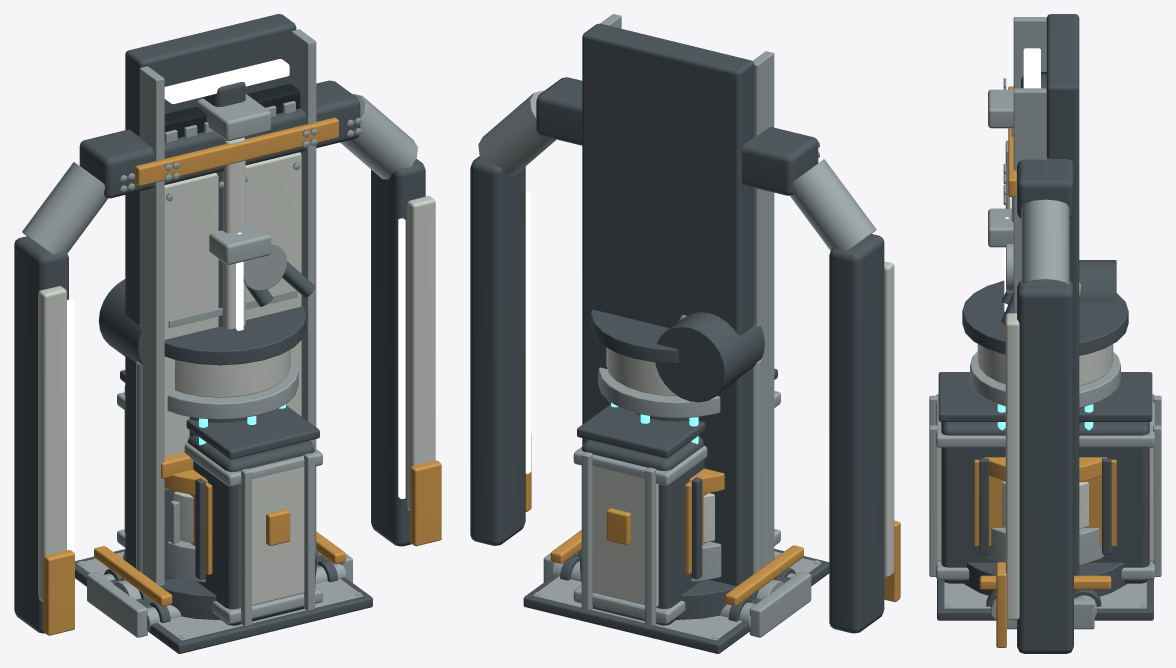
Rendered from helios-kit.glb.
The picture shows the model from 3 angles, left to right: view 1: azimuth 30°, elevation 25°; view 2: azimuth 150°, elevation 25°; view 3: azimuth 270°, elevation 25°; orthographic projection. The views are drawn at different scales.
Visible parts, largest first — view 1: DoorFrame_Graphite, WallBay_Steel, DoorFrame_Ivory, WallBay_Ivory, WallBay_Graphite, Crate_Graphite, DoorFrame_Amber, DoorFrame_Steel, Reactor_Graphite, Crate_Steel, Crate_Ivory, Reactor_Steel (+18 smaller); view 2: WallBay_Graphite, DoorFrame_Graphite, Crate_Graphite, WallBay_Steel, DoorFrame_Steel, Crate_Steel, ServiceArm_Graphite, Crate_Ivory, Reactor_Steel, Reactor_Graphite, FloorTile_Graphite, DoorFrame_Ivory (+9 smaller); view 3: DoorFrame_Graphite, Crate_Graphite, WallBay_Graphite, Reactor_Graphite, Crate_Steel, WallBay_Steel, DoorFrame_Ivory, DoorFrame_Steel, Reactor_Steel, Crate_Amber, Reactor_Ivory, Buttress_Steel (+10 smaller).
Boxes of the visible parts, x1,y1,x2,y2 form: DoorFrame_Graphite: [14, 80, 425, 633]; WallBay_Steel: [139, 29, 316, 585]; DoorFrame_Ivory: [38, 196, 435, 601]; WallBay_Ivory: [164, 152, 301, 457]; WallBay_Graphite: [125, 14, 296, 580]; Crate_Graphite: [120, 370, 319, 625]; DoorFrame_Amber: [43, 117, 441, 635]; DoorFrame_Steel: [22, 94, 417, 253]; Reactor_Graphite: [123, 305, 316, 619]; Crate_Steel: [117, 385, 322, 626]; Crate_Ivory: [238, 466, 304, 607]; Reactor_Steel: [136, 361, 298, 582]; WallBay_Graphite: [582, 23, 754, 585]; DoorFrame_Graphite: [470, 77, 884, 633]; Crate_Graphite: [577, 368, 777, 625]; WallBay_Steel: [600, 14, 774, 567]; DoorFrame_Steel: [478, 90, 876, 251]; Crate_Steel: [573, 391, 780, 626]; ServiceArm_Graphite: [655, 312, 764, 402]; Crate_Ivory: [592, 465, 658, 606]; Reactor_Steel: [598, 359, 761, 581]; Reactor_Graphite: [580, 309, 774, 619]; FloorTile_Graphite: [523, 549, 829, 653]; DoorFrame_Ivory: [884, 261, 894, 577]; DoorFrame_Graphite: [1017, 157, 1073, 653]; Crate_Graphite: [938, 372, 1152, 583]; WallBay_Graphite: [1046, 14, 1079, 575]; Reactor_Graphite: [962, 280, 1128, 596]; Crate_Steel: [929, 394, 1161, 579]; WallBay_Steel: [1013, 17, 1046, 313]; DoorFrame_Ivory: [1005, 140, 1019, 619]; DoorFrame_Steel: [1003, 78, 1069, 285]; Reactor_Steel: [970, 352, 1120, 565]; Crate_Amber: [974, 459, 1116, 546]; Reactor_Ivory: [977, 344, 1113, 528]; Buttress_Steel: [988, 89, 1013, 247].
Size of the model in its own units: 400 by 544 by 212.
